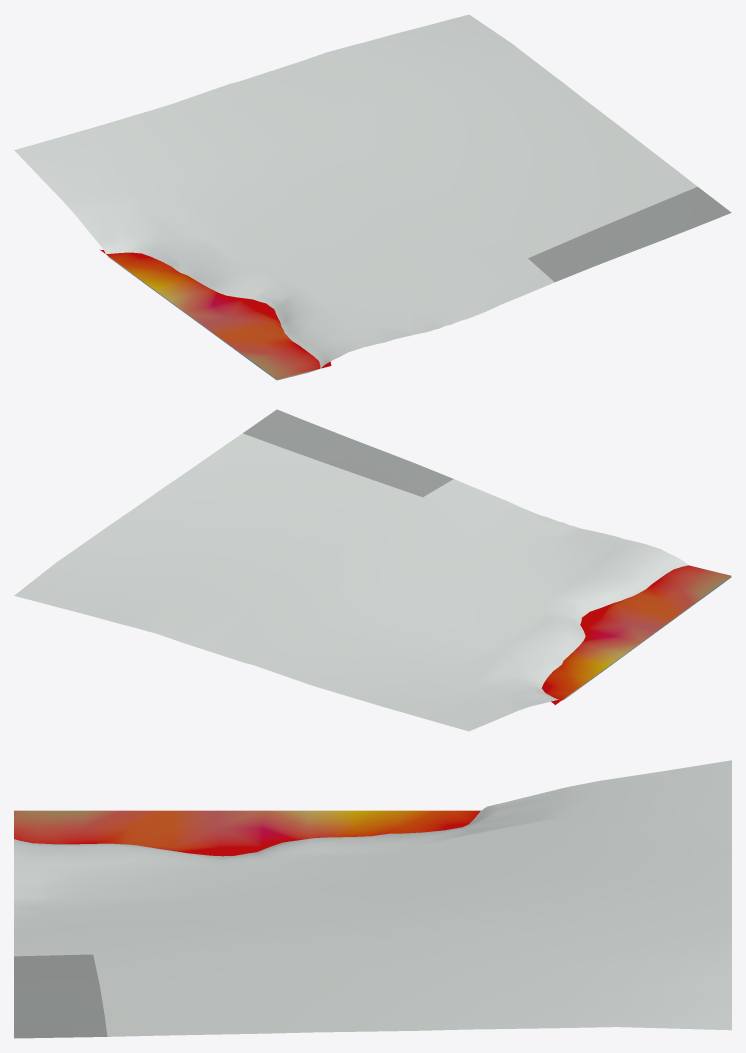
The picture shows the model from 3 angles, top to bottom: view 1: azimuth 30°, elevation 25°; view 2: azimuth 150°, elevation 25°; view 3: azimuth 270°, elevation 25°; orthographic projection. The views are drawn at different scales.
Parts seen in each view (by area): view 1: G:\FFXIV-MapTools\exports\r2f1\bg\ex1\01_roc_r2\fld\r2f1\bgp (×3); view 2: G:\FFXIV-MapTools\exports\r2f1\bg\ex1\01_roc_r2\fld\r2f1\bgp (×3); view 3: G:\FFXIV-MapTools\exports\r2f1\bg\ex1\01_roc_r2\fld\r2f1\bgp (×3).
Part boxes in pixels (x1,y1,x2,y2): G:\FFXIV-MapTools\exports\r2f1\bg\ex1\01_roc_r2\fld\r2f1\bgp (×3): [14, 14, 731, 379]; G:\FFXIV-MapTools\exports\r2f1\bg\ex1\01_roc_r2\fld\r2f1\bgp (×3): [14, 409, 731, 731]; G:\FFXIV-MapTools\exports\r2f1\bg\ex1\01_roc_r2\fld\r2f1\bgp (×3): [14, 760, 731, 1038].
Bounding box in the file's own units: 128 × 17.44 × 128.
